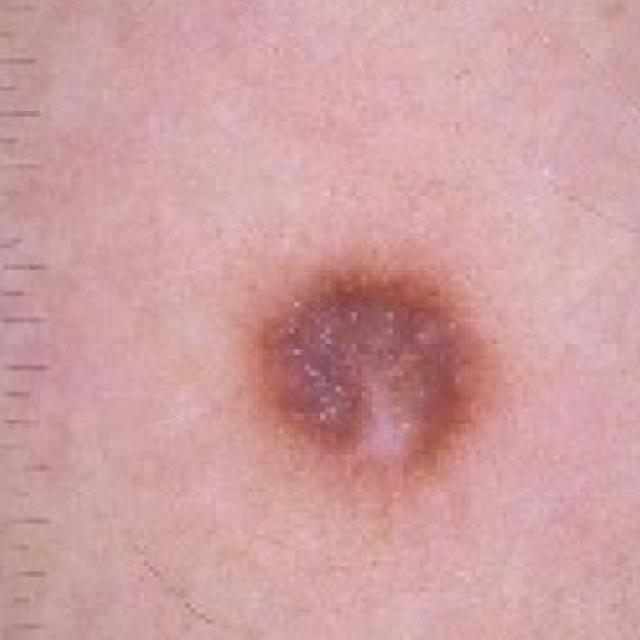DF: (217, 254, 516, 536)
